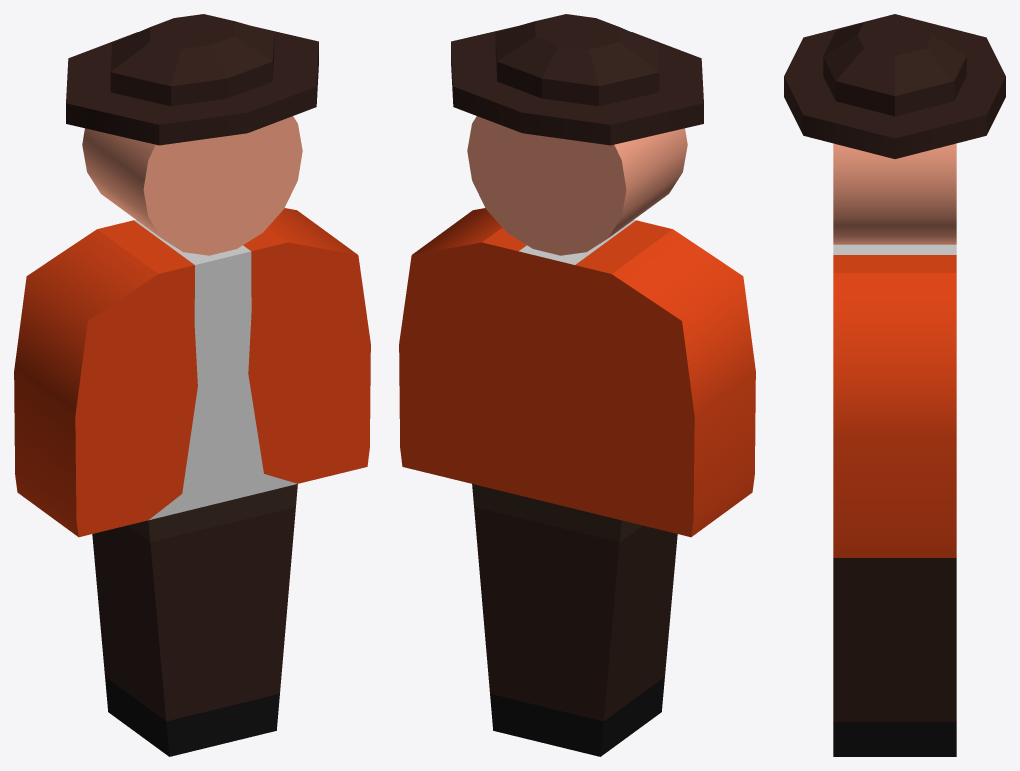
Rendered from merchant.fbx.
The picture shows the model from 3 angles, left to right: view 1: azimuth 30°, elevation 25°; view 2: azimuth 150°, elevation 25°; view 3: azimuth 270°, elevation 25°; orthographic projection.
Visible parts, largest first — view 1: Box001, Box002, Cylinder001; view 2: Box001, Box002, Cylinder001; view 3: Box001, Box002, Cylinder001.
Boxes of the visible parts, x1,y1,x2,y2 form: Box001: (14,208,370,756); Box002: (66,14,318,145); Cylinder001: (82,116,302,255); Box001: (399,208,755,756); Box002: (451,14,703,145); Cylinder001: (467,116,687,255); Box001: (833,244,956,756); Box002: (784,14,1005,158); Cylinder001: (833,143,956,244).
Size of the model in its own units: 55.69 by 124 by 35.93.
